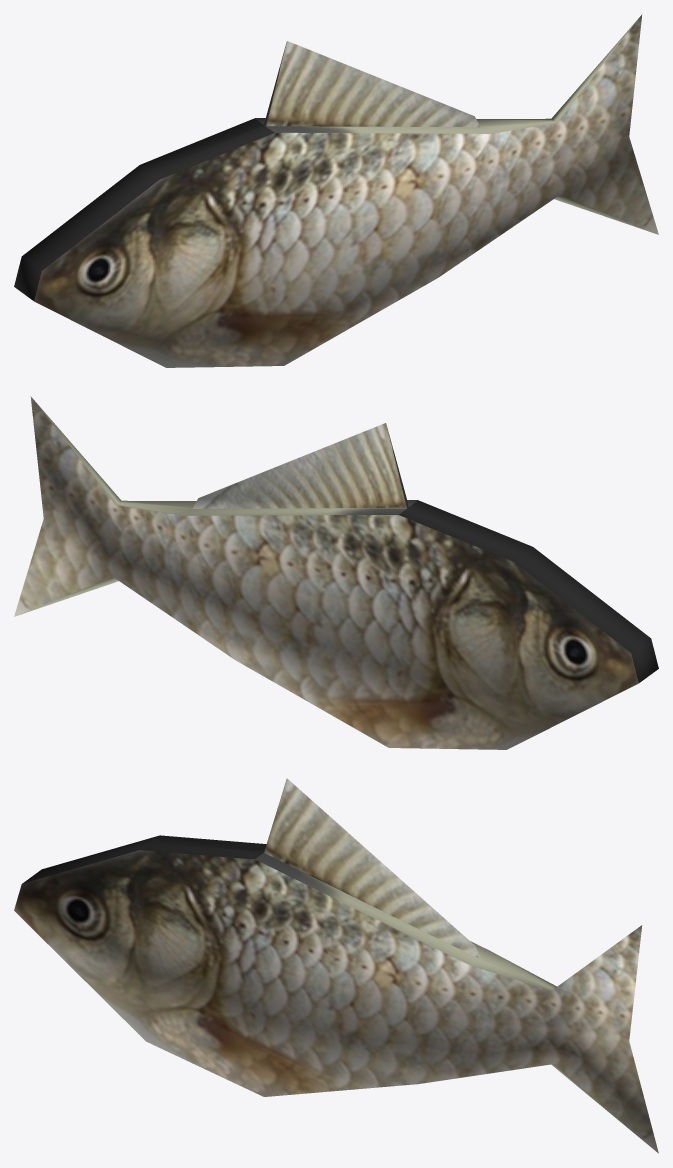
Rendered from fish.glb.
The picture shows the model from 3 angles, top to bottom: view 1: azimuth 30°, elevation 25°; view 2: azimuth 150°, elevation 25°; view 3: azimuth 330°, elevation 25°; orthographic projection.
Parts seen in each view (by area): view 1: Fish; view 2: Fish; view 3: Fish.
Part boxes in pixels (x1,y1,x2,y2): Fish: (14,14,658,367); Fish: (14,396,658,749); Fish: (14,778,658,1153).
Size of the model in its own units: 401 by 190 by 29.24.
1 material, 1 textured.
